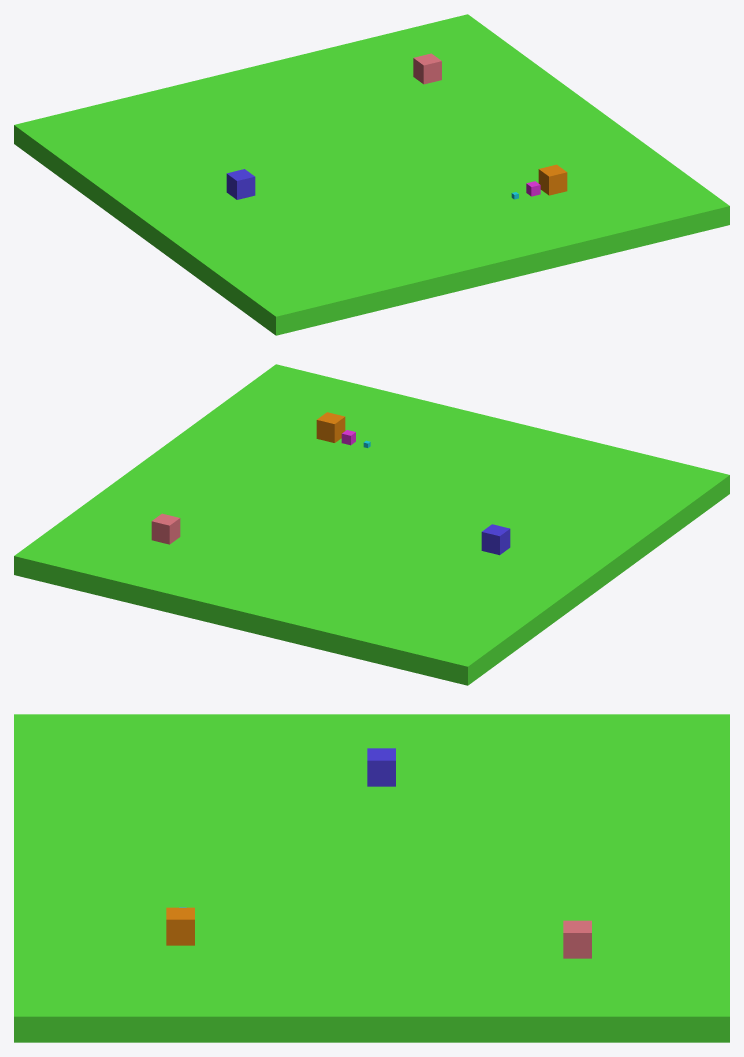
File: test_level_02.glb
3 renders of one model, top to bottom at view 1: azimuth 30°, elevation 25°; view 2: azimuth 150°, elevation 25°; view 3: azimuth 270°, elevation 25°, orthographic. The views are drawn at different scales.
Parts seen in each view (by area): view 1: Cube, Cube.002, Cube.003, Cube.001; view 2: Cube, Cube.001, Cube.002, Cube.003; view 3: Cube, Cube.001, Cube.002, Cube.003.
Part boxes in pixels (x1,y1,x2,y2): Cube: (14, 14, 729, 335); Cube.002: (226, 169, 255, 199); Cube.003: (538, 164, 567, 195); Cube.001: (413, 53, 441, 84); Cube: (14, 364, 729, 685); Cube.001: (151, 513, 180, 544); Cube.002: (481, 524, 510, 555); Cube.003: (316, 412, 345, 442); Cube: (14, 714, 729, 1042); Cube.001: (563, 920, 591, 958); Cube.002: (367, 748, 395, 786); Cube.003: (166, 907, 194, 945).
Size of the model in its own units: 50 by 4 by 50.
